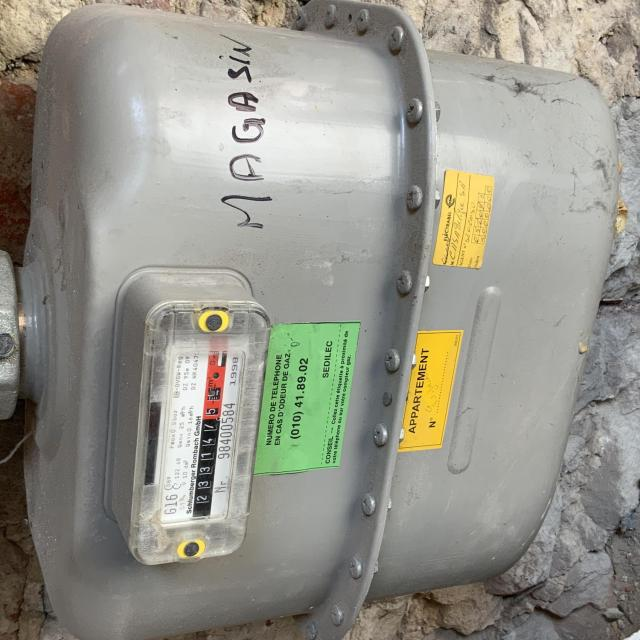gaz_meter: (151, 309, 247, 529)
indication: (193, 351, 224, 517)
